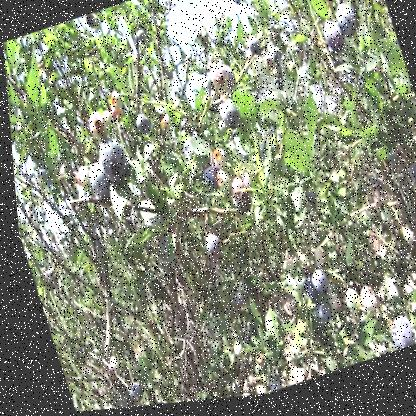intermediate: (207, 66, 233, 101), (353, 289, 376, 321), (227, 179, 249, 212), (104, 356, 118, 378)
mature: (78, 138, 134, 206), (317, 6, 365, 64), (296, 273, 334, 330), (379, 320, 414, 359), (214, 100, 243, 138), (197, 233, 224, 271), (132, 113, 153, 143), (247, 38, 264, 64), (121, 381, 139, 405), (200, 171, 216, 196), (230, 1, 242, 11)
young: (85, 112, 110, 146), (71, 163, 95, 198), (209, 149, 228, 178), (212, 172, 231, 199), (337, 293, 356, 320), (107, 91, 124, 117), (375, 213, 390, 234), (227, 344, 240, 364), (357, 215, 369, 232)
